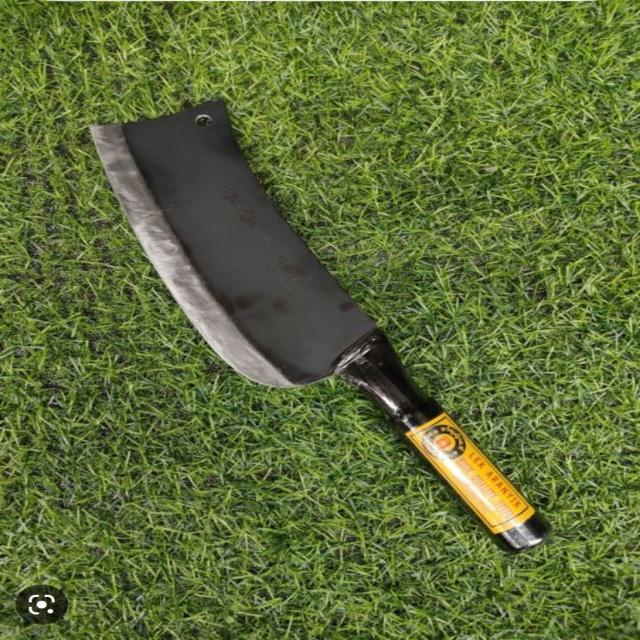Knife: (65, 94, 586, 564)
